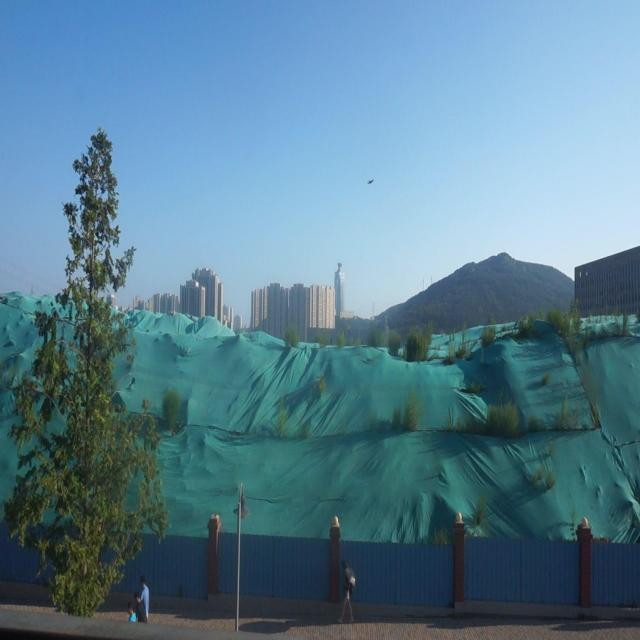UAV: (367, 178, 374, 185)
